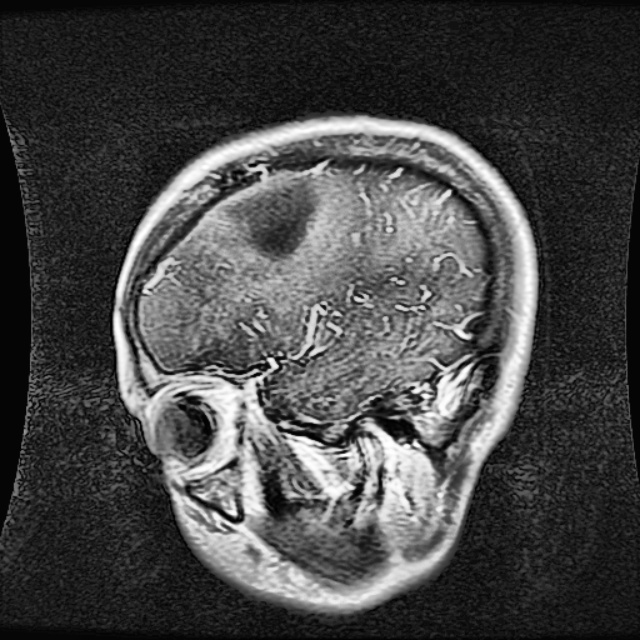Meningioma: (223, 175, 317, 254)
